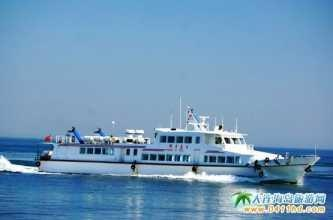otherboat: (23, 103, 313, 179)
